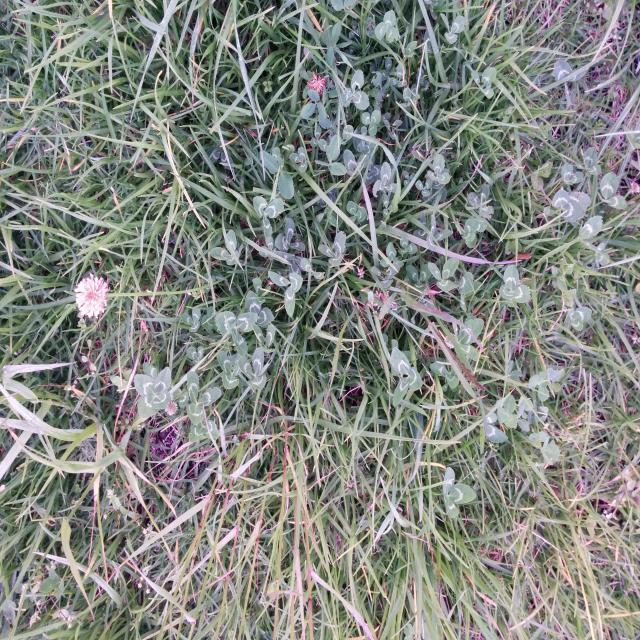Four Leaf Clover: (134, 367, 171, 418)
